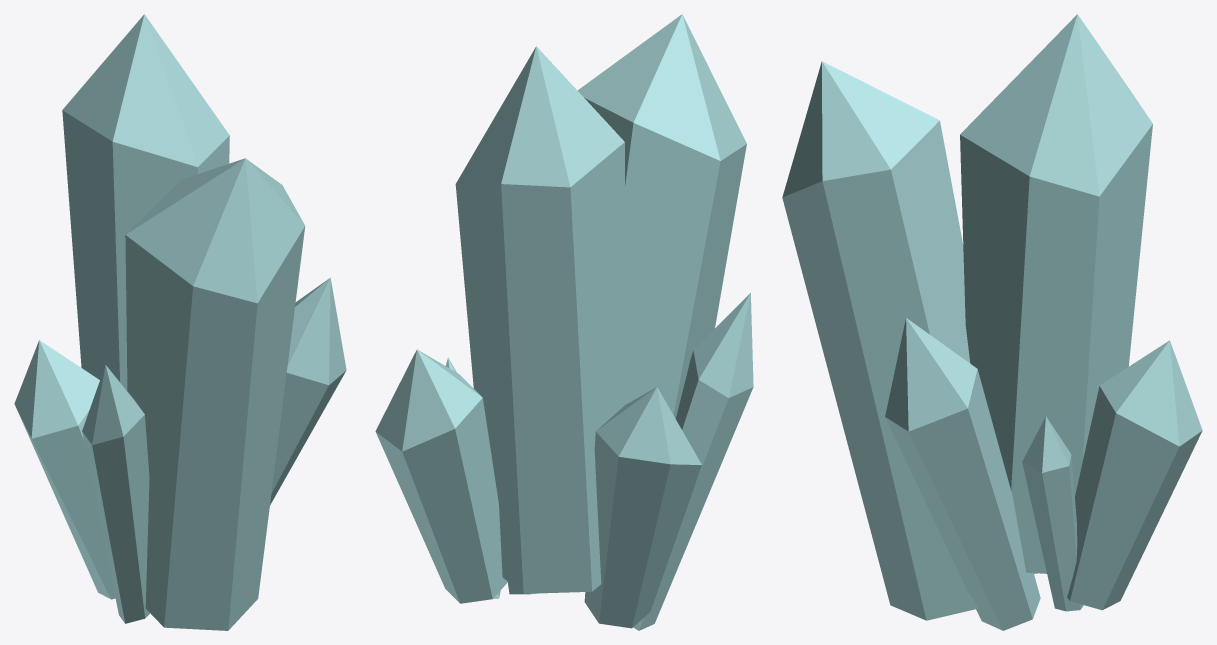
File: crystal_variation_joined.fbx
3 views of the same model, side by side, from view 1: azimuth 30°, elevation 25°; view 2: azimuth 150°, elevation 25°; view 3: azimuth 270°, elevation 25° (orthographic). The views are drawn at different scales.
Visible parts, largest first — view 1: Cylinder.001; view 2: Cylinder.001; view 3: Cylinder.001.
Part boxes in pixels (bbox=[...]): Cylinder.001: bbox=[14, 14, 346, 630]; Cylinder.001: bbox=[375, 14, 753, 630]; Cylinder.001: bbox=[782, 14, 1202, 630].
Bounding box in the file's own units: 98.91 × 205 × 130.
